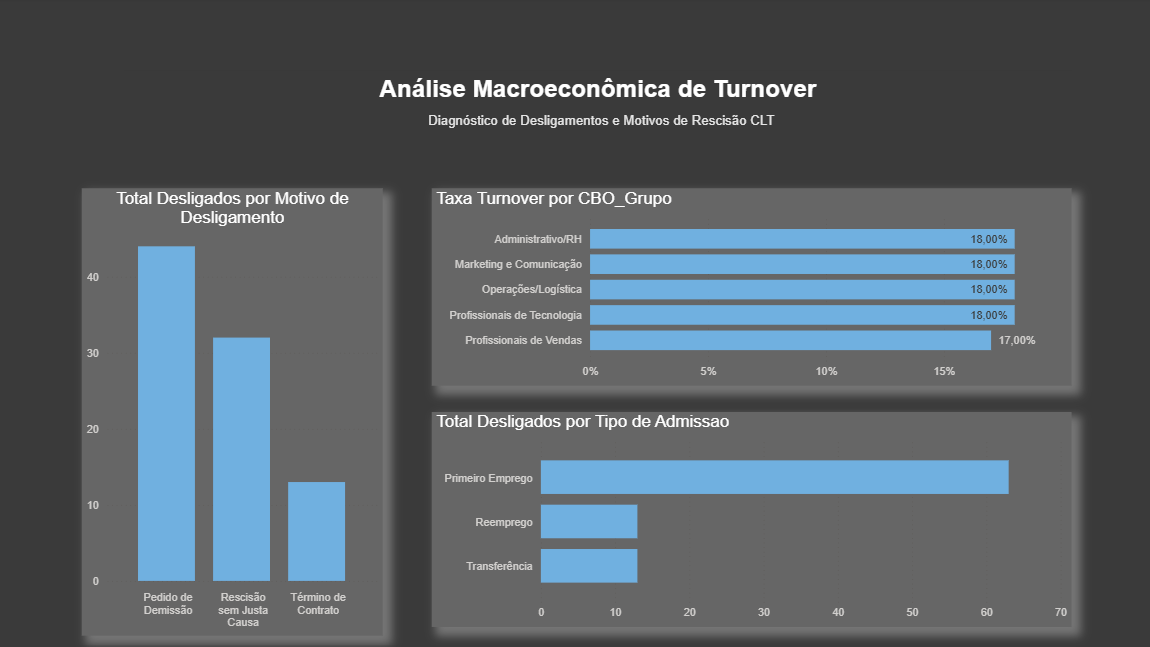

What the dashboard file says about the page in this screenshot:
{"tool":"powerbi","page":{"name":"Turnover","canvas":[1280,720],"ordinal":2},"visuals":[{"type":"clusteredColumnChart","title":"Total Desligados por Motivo de Desligamento","fields":{"Category":["base_dados_clt.Motivo_Desligamento"],"Y":["Medidas.Total_Desligados"]},"box":[97.4,209.9,330.7,491.3],"z":0},{"type":"textbox","box":[144.1,81,1040.1,75.5],"z":1},{"type":"barChart","title":"Taxa Turnover por CBO_Grupo","fields":{"Category":["base_dados_clt.CBO_Grupo"],"Y":["Medidas.Taxa_Turnover"]},"box":[481.6,209.9,702.6,216.8],"z":2},{"type":"clusteredBarChart","title":"Total Desligados por Tipo de Admissao","fields":{"Category":["base_dados_clt.Tipo_Admissao"],"Y":["Medidas.Total_Desligados"]},"box":[481.6,455.6,702.6,236],"z":3}]}

Visuals, with their boxes in screenshot pixels (x1, y1, x2, y2), scaled from the page's 1280x720 canvas onto the 1150x647 screenshot:
"Total Desligados por Motivo de Desligamento" clusteredColumnChart: box(88, 189, 385, 630)
textbox: box(129, 73, 1064, 141)
"Taxa Turnover por CBO_Grupo" barChart: box(433, 189, 1064, 383)
"Total Desligados por Tipo de Admissao" clusteredBarChart: box(433, 409, 1064, 621)
